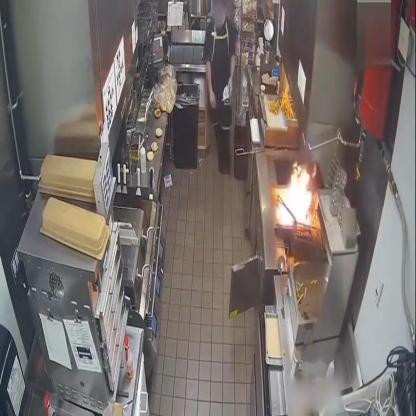fire: (275, 158, 317, 232)
